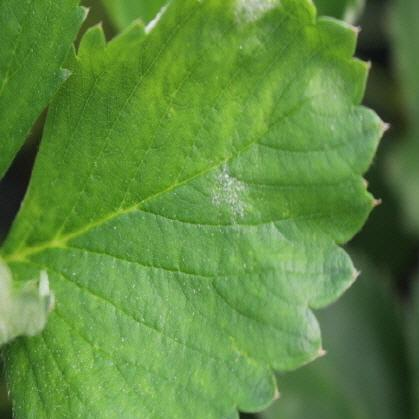Powdery Mildew Leaf: (0, 0, 390, 418)
